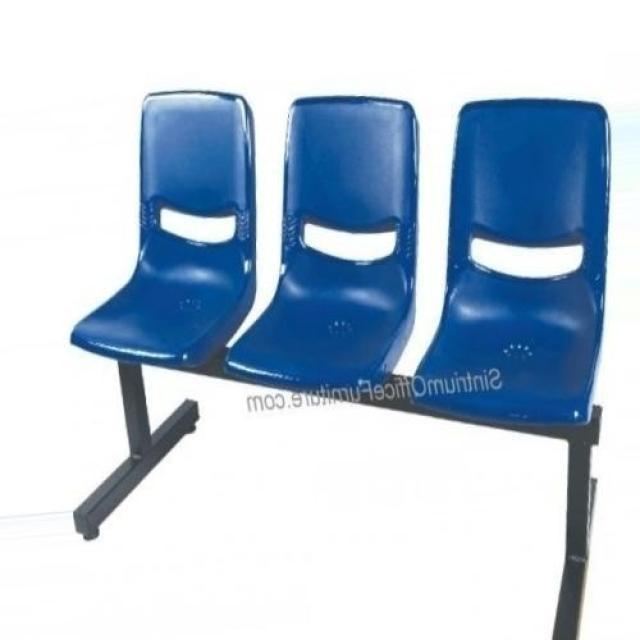chair: (72, 92, 618, 640)
